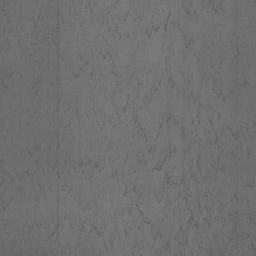Silk spot: (0, 0, 256, 256), (0, 72, 22, 97), (202, 0, 225, 14), (181, 0, 198, 16), (183, 35, 195, 50), (0, 196, 12, 211)
